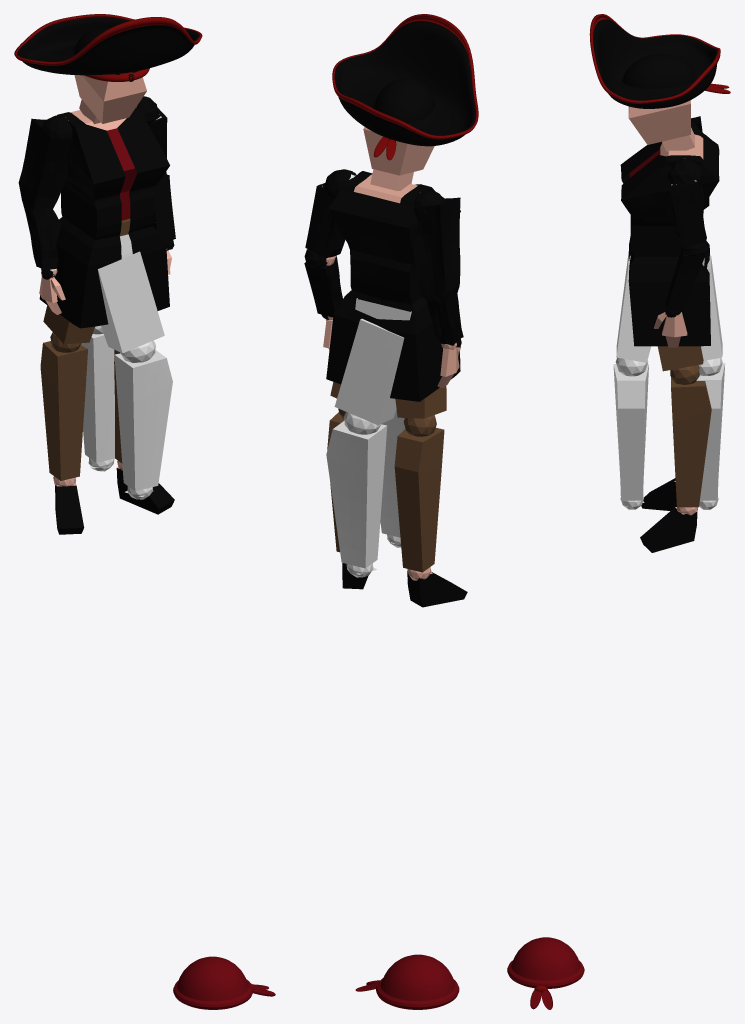
Rendered from please work.fbx.
The picture shows the model from 3 angles, left to right: view 1: azimuth 30°, elevation 25°; view 2: azimuth 150°, elevation 25°; view 3: azimuth 270°, elevation 25°; orthographic projection. The views are drawn at different scales.
Parts seen in each view (by area): view 1: Cube, bottom, Cube.001, Hat; view 2: Cube, bottom, Cube.001, Hat; view 3: Cube, bottom, Cube.001, Hat.
Boxes of the visible parts, x1,y1,x2,y2 form: Cube: (18, 75, 175, 534); bottom: (81, 234, 172, 499); Cube.001: (14, 14, 202, 81); Hat: (173, 956, 275, 1009); Cube: (304, 127, 467, 607); bottom: (326, 298, 411, 577); Cube.001: (332, 14, 478, 160); Hat: (355, 954, 459, 1009); Cube: (620, 100, 719, 552); bottom: (613, 255, 725, 509); Cube.001: (589, 14, 730, 108); Hat: (507, 937, 584, 1009).
Bounding box in the file's own units: 6.54 × 33.54 × 7.22.
